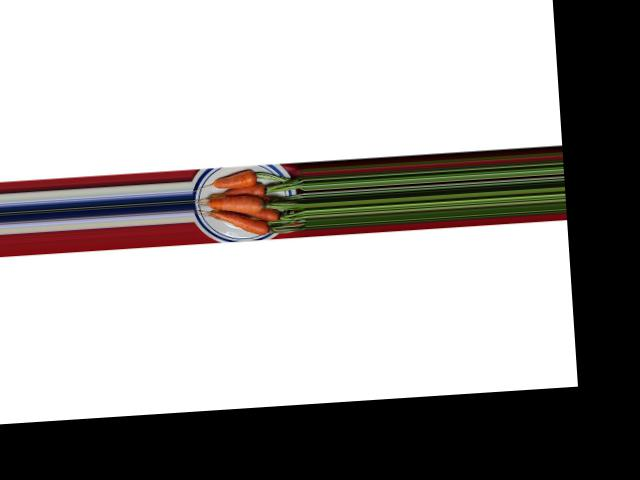carrot: (211, 167, 262, 192)
